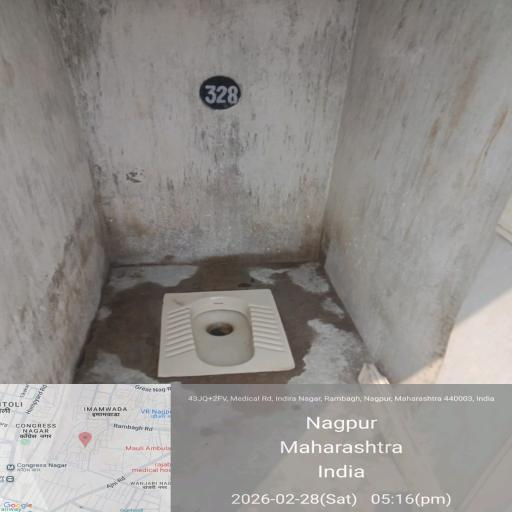partial_dirty_floor: (53, 142, 327, 260), (342, 143, 497, 344), (111, 264, 342, 386), (0, 255, 96, 370)
partial_dirty_indian: (152, 288, 299, 379)
